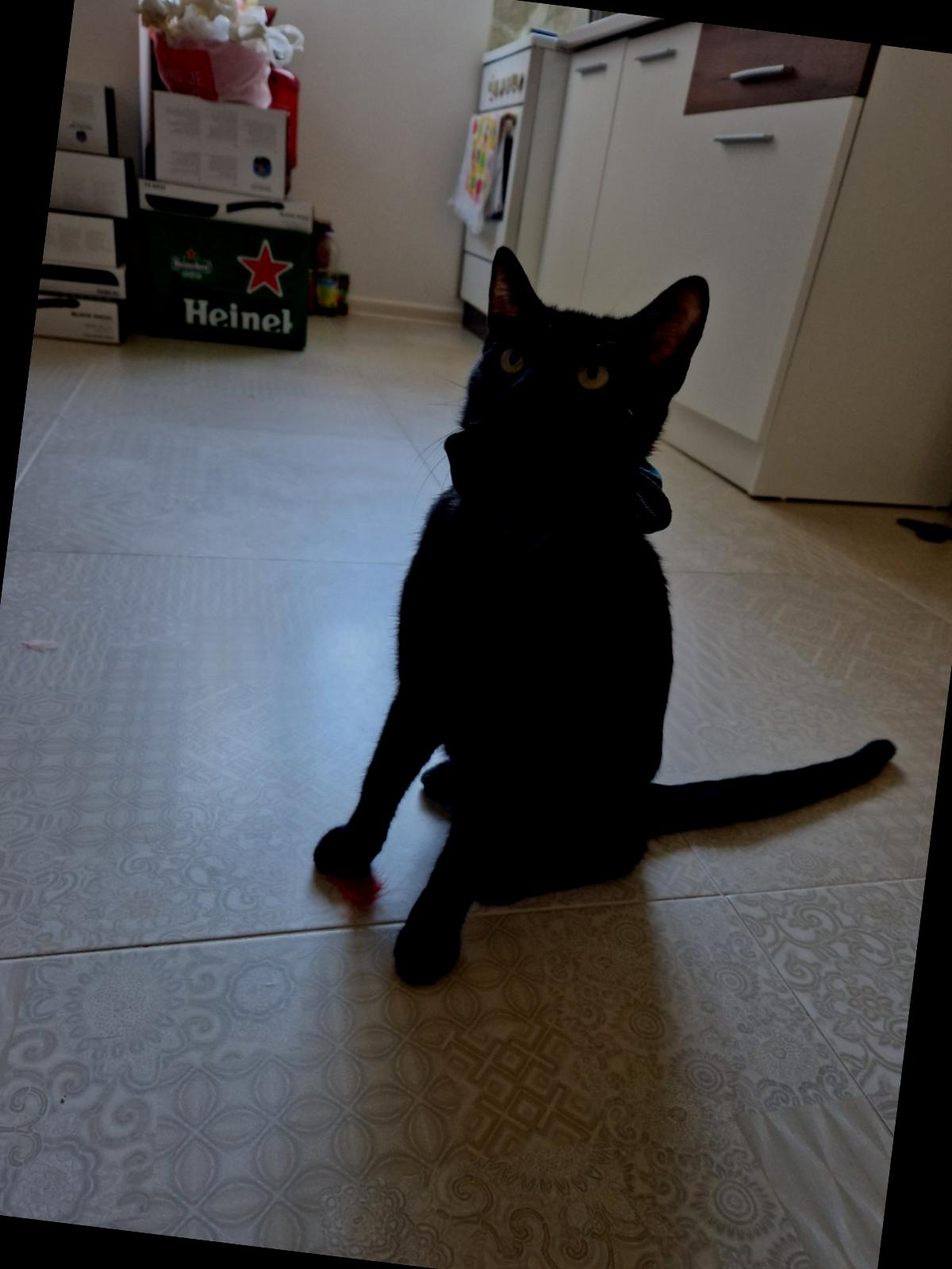macka: (298, 223, 952, 1045)
